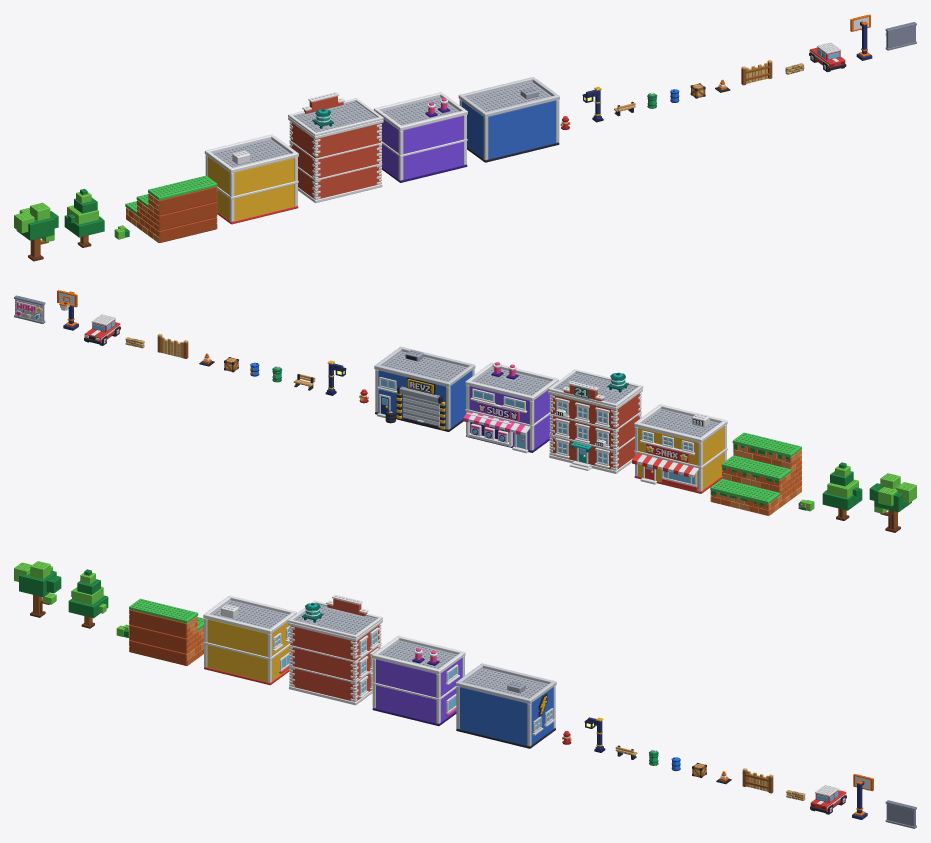
The model's file is Items_Scenery.glb.
The picture shows the model from 3 angles, top to bottom: view 1: azimuth 30°, elevation 25°; view 2: azimuth 150°, elevation 25°; view 3: azimuth 330°, elevation 25°; orthographic projection.
Parts seen in each view (by area): view 1: Scn_Building_2 (×2), Scn_Building_4 (×2), Scn_Building_3 (×2), Scn_Building_1 (×2), Scn_Cliff_Block, Scn_Tree_1, Scn_Tree_2, Scn_Car, Scn_GraffitiWall, Scn_Hoop, Scn_Fence; view 2: Scn_Building_2 (×2), Scn_Building_1 (×2), Scn_Building_4 (×2), Scn_Building_3 (×2), Scn_Cliff_Block (×2), Scn_Tree_1, Scn_Tree_2, Scn_Car, Scn_GraffitiWall, Scn_Hoop, Scn_Fence; view 3: Scn_Building_2 (×2), Scn_Building_4 (×2), Scn_Building_3 (×2), Scn_Building_1 (×2), Scn_Cliff_Block, Scn_Tree_1, Scn_Tree_2, Scn_Car, Scn_GraffitiWall.
Part boxes in pixels (x1,y1,x2,y2): Scn_Building_2 (×2): (288, 92, 383, 203); Scn_Building_4 (×2): (458, 77, 559, 162); Scn_Building_3 (×2): (373, 92, 467, 182); Scn_Building_1 (×2): (204, 134, 298, 224); Scn_Cliff_Block: (125, 175, 217, 242); Scn_Tree_1: (14, 202, 58, 261); Scn_Tree_2: (64, 189, 104, 247); Scn_Car: (809, 42, 846, 72); Scn_GraffitiWall: (885, 22, 916, 50); Scn_Hoop: (850, 14, 872, 60); Scn_Fence: (741, 60, 772, 85); Scn_Building_2 (×2): (548, 369, 643, 473); Scn_Building_1 (×2): (632, 404, 727, 493); Scn_Building_4 (×2): (374, 346, 475, 431); Scn_Building_3 (×2): (463, 362, 558, 453); Scn_Cliff_Block (×2): (710, 432, 801, 515); Scn_Tree_1: (869, 473, 916, 532); Scn_Tree_2: (822, 462, 862, 520); Scn_Car: (84, 314, 120, 345); Scn_GraffitiWall: (14, 295, 45, 323); Scn_Hoop: (57, 290, 78, 330); Scn_Fence: (157, 333, 188, 358); Scn_Building_2 (×2): (287, 594, 382, 705); Scn_Building_4 (×2): (455, 663, 556, 748); Scn_Building_3 (×2): (372, 635, 465, 726); Scn_Building_1 (×2): (203, 595, 296, 685); Scn_Cliff_Block: (129, 598, 203, 665); Scn_Tree_1: (14, 561, 61, 617); Scn_Tree_2: (68, 569, 108, 628); Scn_Car: (810, 785, 846, 814); Scn_GraffitiWall: (885, 800, 916, 828).
Size of the model in its own units: 246 by 21.95 by 16.
27 materials, 26 textured.
